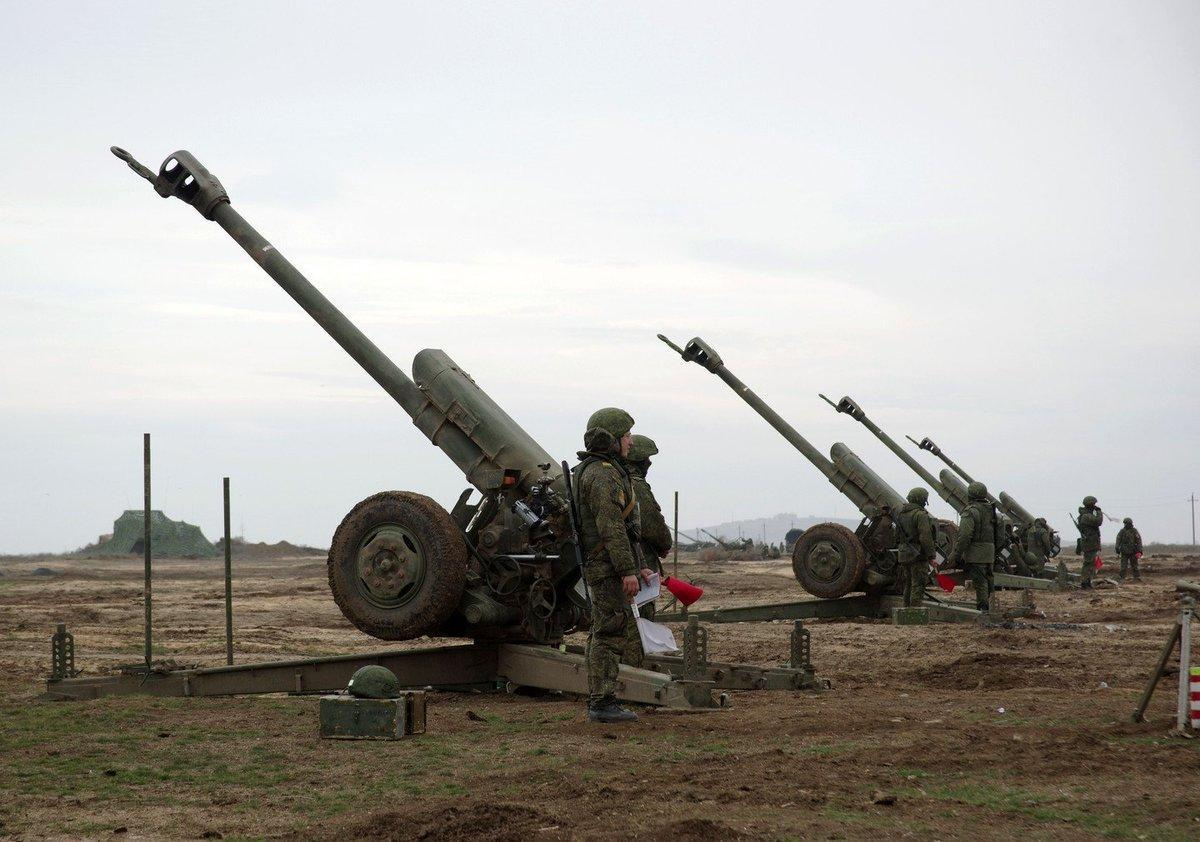person: (559, 405, 641, 713), (958, 483, 1004, 613), (894, 486, 940, 616), (1071, 493, 1107, 594), (1116, 516, 1146, 588), (1028, 517, 1056, 582)
sau: (156, 134, 790, 732), (700, 316, 966, 618)
